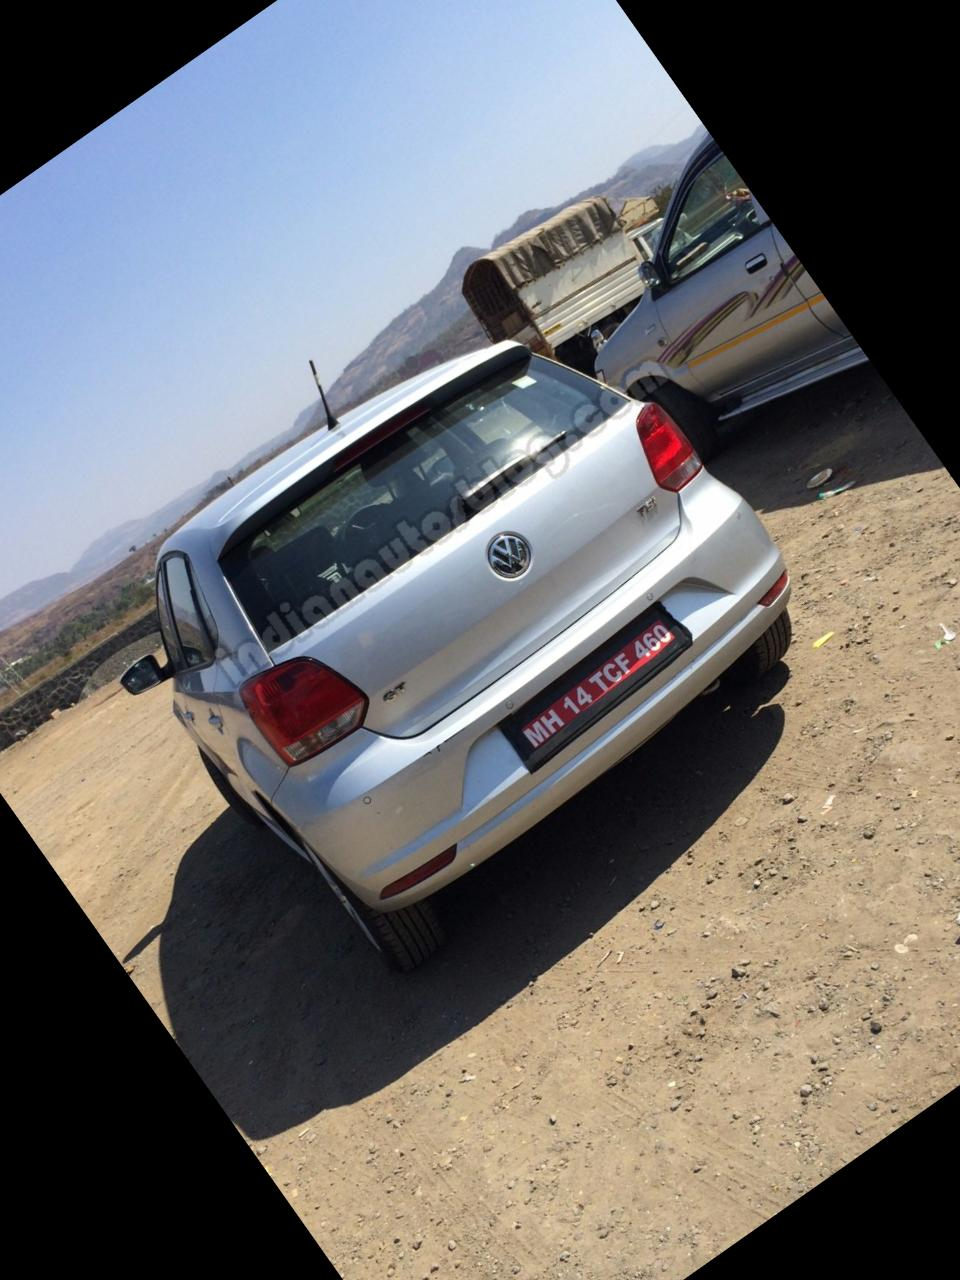plate: (486, 586, 717, 783)
